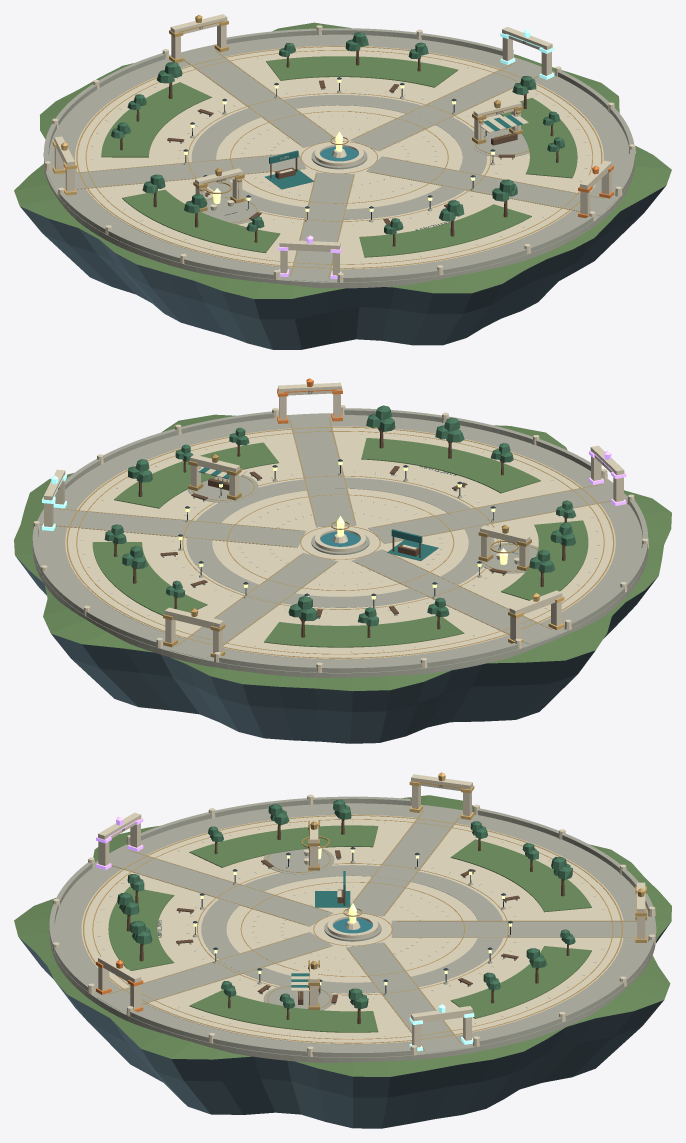
Rendered from Hub.glb.
3 renders of one model, top to bottom at view 1: azimuth 30°, elevation 25°; view 2: azimuth 150°, elevation 25°; view 3: azimuth 270°, elevation 25°, orthographic. The views are drawn at different scales.
Parts seen in each view (by area): view 1: Hub_Warm ivory_-1_0, Hub_Cliff strata_-1_0, Hub_Sanctuary limestone_-1_0, Hub_Sanctuary turf_-1_0, Hub_Sanctuary limestone_-1_-1, Hub_Sanctuary limestone_0_0, Hub_Sanctuary limestone_0_-1, Hub_Sanctuary turf_0_0, Hub_Sanctuary turf_-1_-2, Hub_Sanctuary turf_-2_-1, Hub_Aged gold_-1_-1, Hub_Sanctuary turf_1_-1 (+19 smaller); view 2: Hub_Warm ivory_-1_0, Hub_Cliff strata_-1_0, Hub_Sanctuary limestone_-1_0, Hub_Sanctuary turf_-1_0, Hub_Sanctuary limestone_-1_-1, Hub_Sanctuary limestone_0_0, Hub_Sanctuary limestone_0_-1, Hub_Sanctuary turf_-1_-2, Hub_Aged gold_-1_-1, Hub_Sanctuary turf_0_0, Hub_Sanctuary turf_1_-1, Hub_Sanctuary turf_-2_-1 (+19 smaller); view 3: Hub_Warm ivory_-1_0, Hub_Cliff strata_-1_0, Hub_Sanctuary limestone_-1_0, Hub_Sanctuary turf_-1_0, Hub_Sanctuary limestone_-1_-1, Hub_Sanctuary limestone_0_0, Hub_Sanctuary limestone_0_-1, Hub_Sanctuary turf_1_-1, Hub_Aged gold_-1_-1, Hub_Sanctuary turf_-2_-1, Hub_Sanctuary turf_0_0, Hub_Sanctuary turf_-1_-2 (+15 smaller).
Part boxes in pixels (left/top/right/bottom): Hub_Warm ivory_-1_0: left=75, top=45, right=603, bottom=269; Hub_Cliff strata_-1_0: left=20, top=186, right=665, bottom=349; Hub_Sanctuary limestone_-1_0: left=44, top=34, right=634, bottom=288; Hub_Sanctuary turf_-1_0: left=14, top=22, right=671, bottom=298; Hub_Sanctuary limestone_-1_-1: left=191, top=95, right=487, bottom=281; Hub_Sanctuary limestone_0_0: left=181, top=45, right=541, bottom=151; Hub_Sanctuary limestone_0_-1: left=366, top=128, right=615, bottom=215; Hub_Sanctuary turf_0_0: left=266, top=56, right=458, bottom=87; Hub_Sanctuary turf_-1_-2: left=359, top=204, right=531, bottom=257; Hub_Sanctuary turf_-2_-1: left=122, top=189, right=280, bottom=253; Hub_Aged gold_-1_-1: left=85, top=50, right=593, bottom=276; Hub_Sanctuary turf_1_-1: left=500, top=98, right=577, bottom=178; Hub_Warm ivory_-1_0: left=65, top=426, right=615, bottom=659; Hub_Cliff strata_-1_0: left=16, top=557, right=658, bottom=743; Hub_Sanctuary limestone_-1_0: left=32, top=413, right=647, bottom=677; Hub_Sanctuary turf_-1_0: left=14, top=414, right=671, bottom=691; Hub_Sanctuary limestone_-1_-1: left=186, top=477, right=627, bottom=607; Hub_Sanctuary limestone_0_0: left=38, top=507, right=338, bottom=658; Hub_Sanctuary limestone_0_-1: left=187, top=413, right=415, bottom=527; Hub_Sanctuary turf_-1_-2: left=361, top=438, right=540, bottom=493; Hub_Aged gold_-1_-1: left=76, top=431, right=610, bottom=654; Hub_Sanctuary turf_0_0: left=92, top=542, right=207, bottom=615; Hub_Sanctuary turf_1_-1: left=114, top=442, right=278, bottom=508; Hub_Sanctuary turf_-2_-1: left=501, top=520, right=588, bottom=600; Hub_Warm ivory_-1_0: left=81, top=814, right=623, bottom=1044; Hub_Cliff strata_-1_0: left=19, top=922, right=670, bottom=1128; Hub_Sanctuary limestone_-1_0: left=49, top=803, right=656, bottom=1062; Hub_Sanctuary turf_-1_0: left=14, top=795, right=671, bottom=1076; Hub_Sanctuary limestone_-1_-1: left=97, top=847, right=504, bottom=993; Hub_Sanctuary limestone_0_0: left=346, top=920, right=654, bottom=1053; Hub_Sanctuary limestone_0_-1: left=97, top=931, right=344, bottom=1011; Hub_Sanctuary turf_1_-1: left=189, top=990, right=378, bottom=1032; Hub_Aged gold_-1_-1: left=92, top=819, right=613, bottom=1039; Hub_Sanctuary turf_-2_-1: left=189, top=825, right=378, bottom=867; Hub_Sanctuary turf_0_0: left=450, top=946, right=591, bottom=1018; Hub_Sanctuary turf_-1_-2: left=108, top=886, right=174, bottom=970.
Bounding box in the file's own units: 396 × 85.7 × 390.
